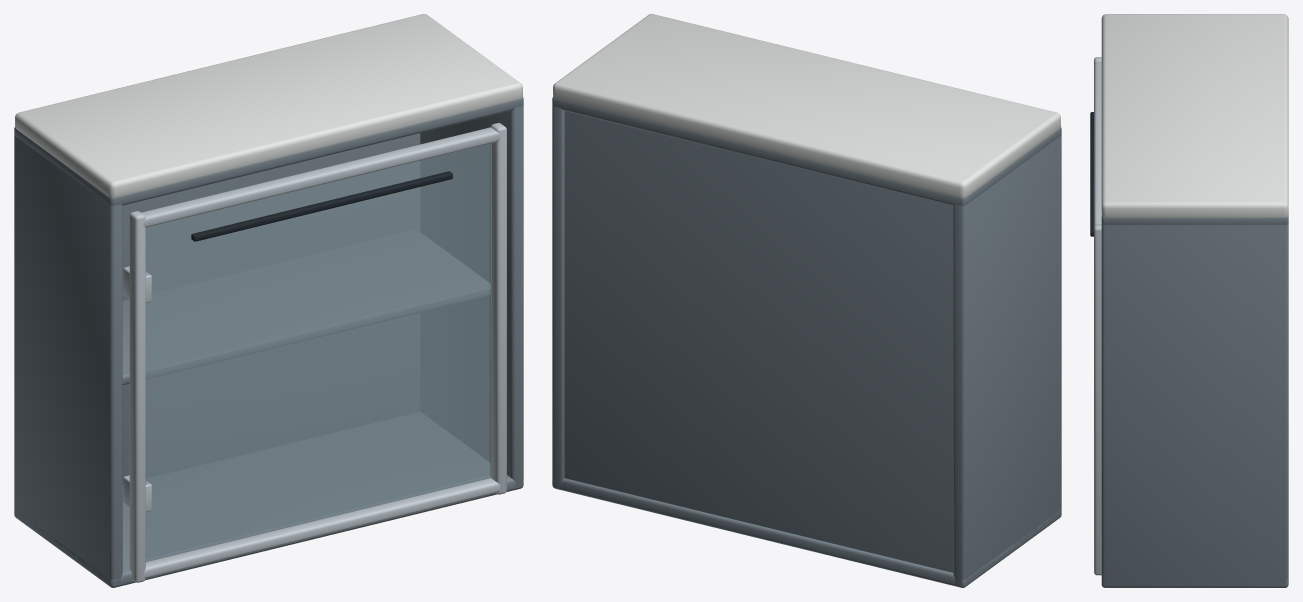
The model's file is glass-wall-cabinet.glb.
3 renders of one model, left to right at view 1: azimuth 30°, elevation 25°; view 2: azimuth 150°, elevation 25°; view 3: azimuth 270°, elevation 25°, orthographic. The views are drawn at different scales.
Parts seen in each view (by area): view 1: glass-wall-cabinet; view 2: glass-wall-cabinet; view 3: glass-wall-cabinet.
Part boxes in pixels (bbox=[...]): glass-wall-cabinet: bbox=[14, 14, 523, 587]; glass-wall-cabinet: bbox=[552, 14, 1061, 587]; glass-wall-cabinet: bbox=[1090, 14, 1288, 587].
Bounding box in the file's own units: 0.8 × 0.75 × 0.35.
